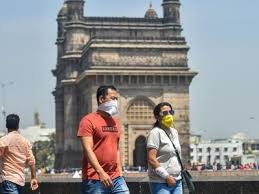mask: (95, 86, 117, 113), (157, 105, 174, 129)
